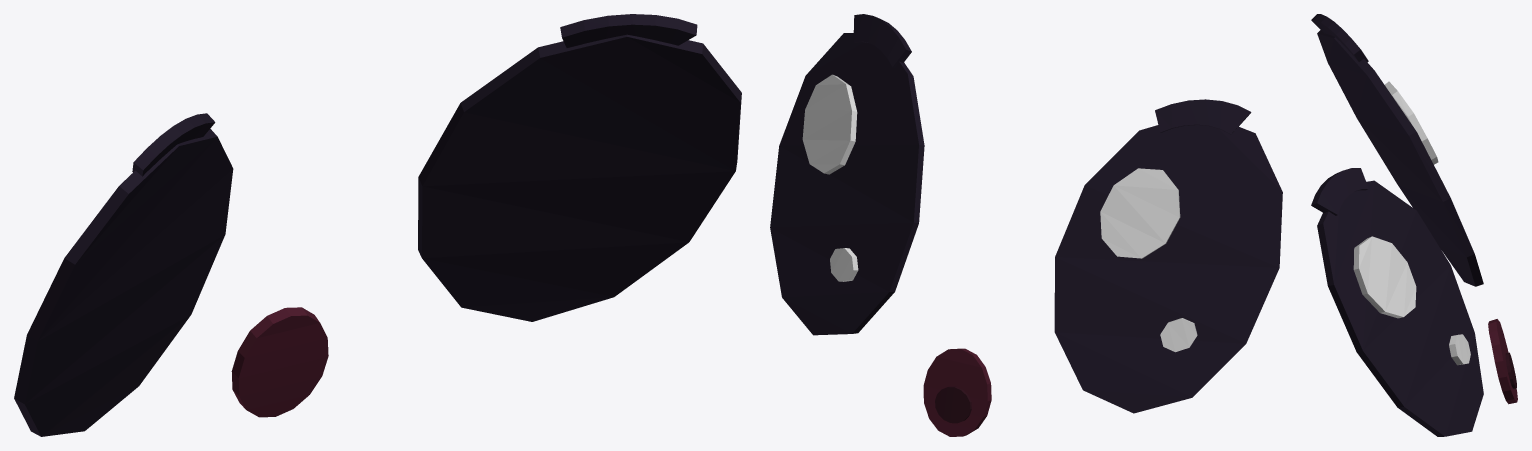
File: slime_face_surprised.fbx
3 renders of one model, left to right at view 1: azimuth 30°, elevation 25°; view 2: azimuth 150°, elevation 25°; view 3: azimuth 270°, elevation 25°, orthographic. The views are drawn at different scales.
Parts seen in each view (by area): view 1: slime_face_surprised; view 2: slime_face_surprised; view 3: slime_face_surprised.
Part boxes in pixels (x1=…): slime_face_surprised: x1=14, y1=14, x2=741, y2=436; slime_face_surprised: x1=770, y1=14, x2=1282, y2=436; slime_face_surprised: x1=1311, y1=14, x2=1517, y2=436.
Size of the model in its own units: 1.6 by 0.9494 by 0.5885.
